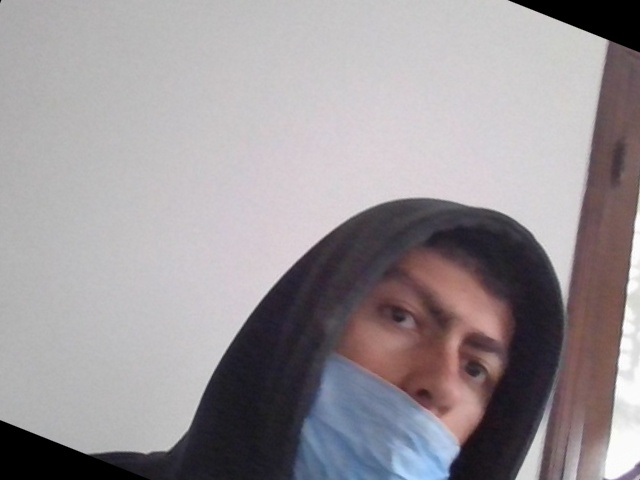mask_weared_incorrect: (300, 232, 516, 480)
